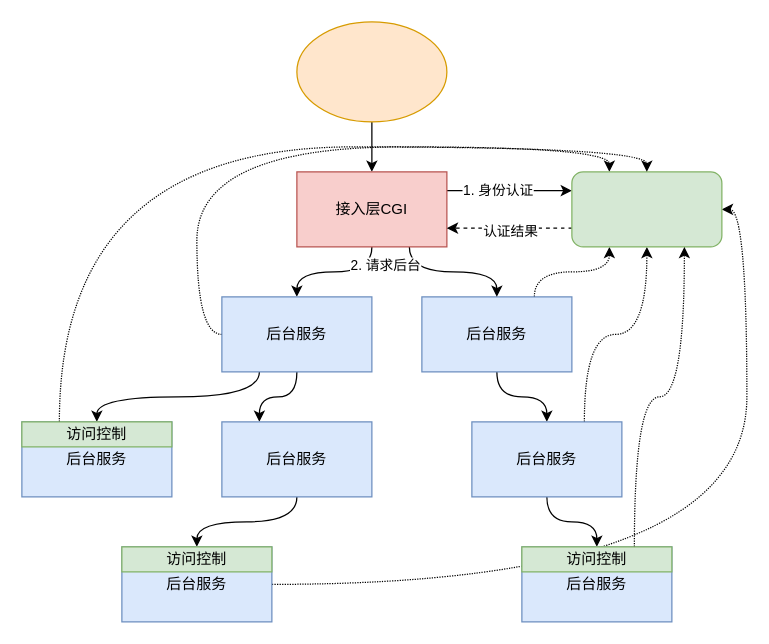
This 769x644 diagram has some shape labels left out. The centre of each missing label's shape, as x and y in pixels:
用户: point (371, 71)
认证服务: point (646, 209)
